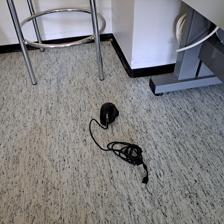mouse: (98, 101, 119, 126)
